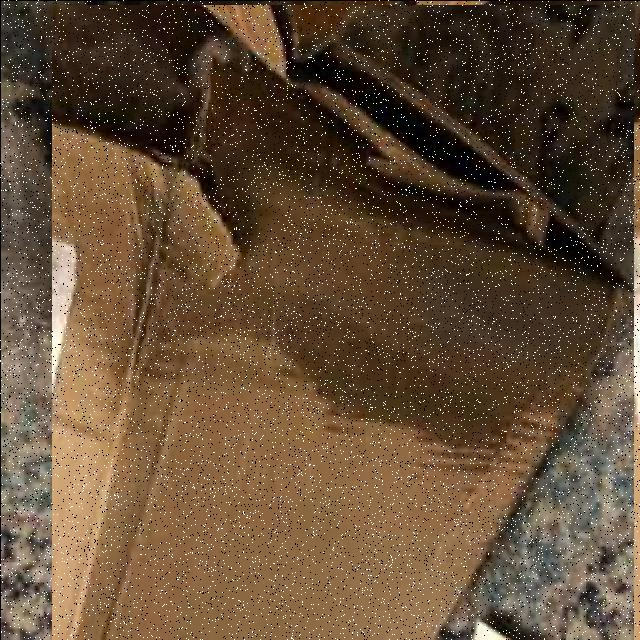defect: (51, 4, 633, 640)
